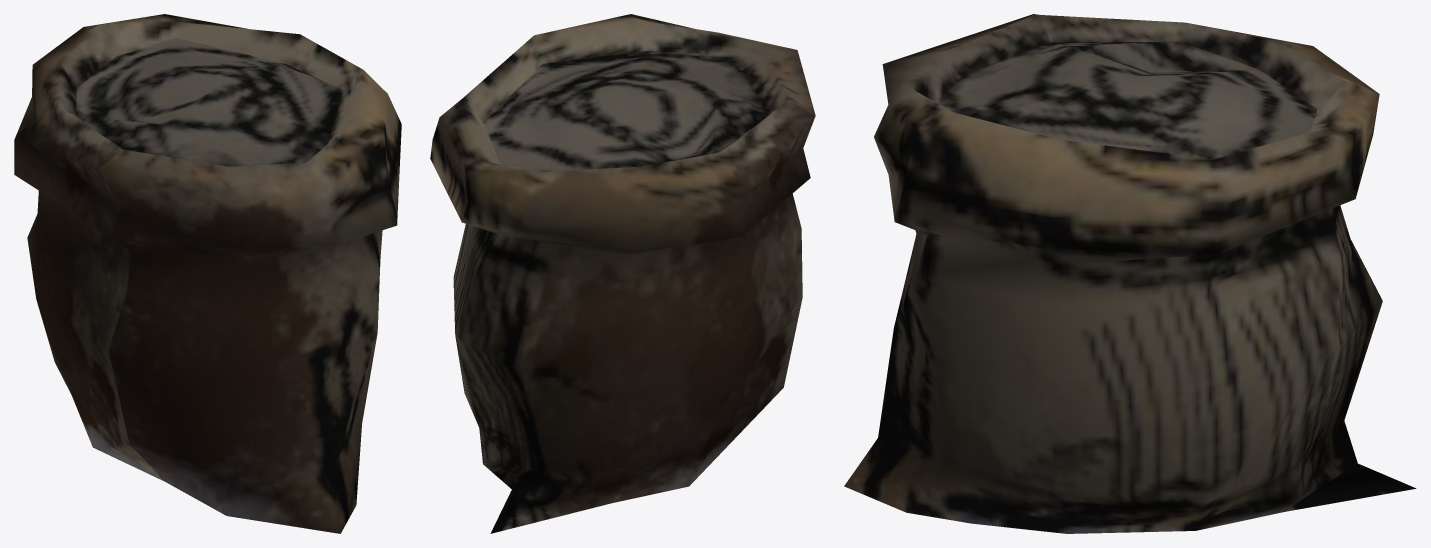
Rendered from bag 1.fbx.
3 views of the same model, side by side, from view 1: azimuth 30°, elevation 25°; view 2: azimuth 150°, elevation 25°; view 3: azimuth 270°, elevation 25° (orthographic). The views are drawn at different scales.
Parts seen in each view (by area): view 1: Strove.001; view 2: Strove.001; view 3: Strove.001.
Part boxes in pixels (box(x1,y1,x2,y2)): Strove.001: box(14, 14, 401, 533); Strove.001: box(430, 14, 815, 533); Strove.001: box(844, 14, 1416, 533).
Bounding box in the file's own units: 31.96 × 35.45 × 44.3.
1 material, 1 textured.
